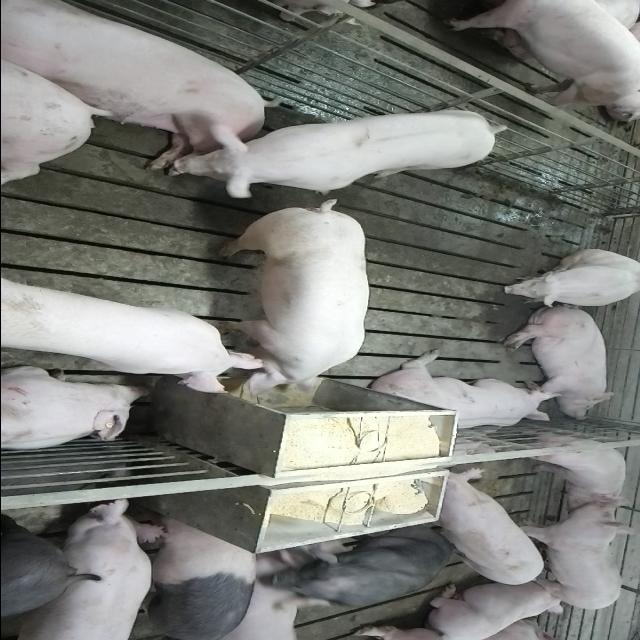Feeding: (212, 198, 373, 406), (8, 277, 274, 393)
Lateral_lying: (500, 305, 618, 419)
Sitting: (496, 249, 640, 309)
Standing: (167, 103, 511, 199), (2, 498, 168, 637), (445, 0, 640, 112), (258, 527, 455, 611), (125, 516, 258, 638), (420, 472, 547, 588), (510, 497, 630, 611), (2, 516, 78, 632), (511, 435, 626, 511)
Sternal_lying: (366, 353, 560, 432), (0, 368, 147, 454), (420, 580, 568, 636), (486, 619, 568, 640)
